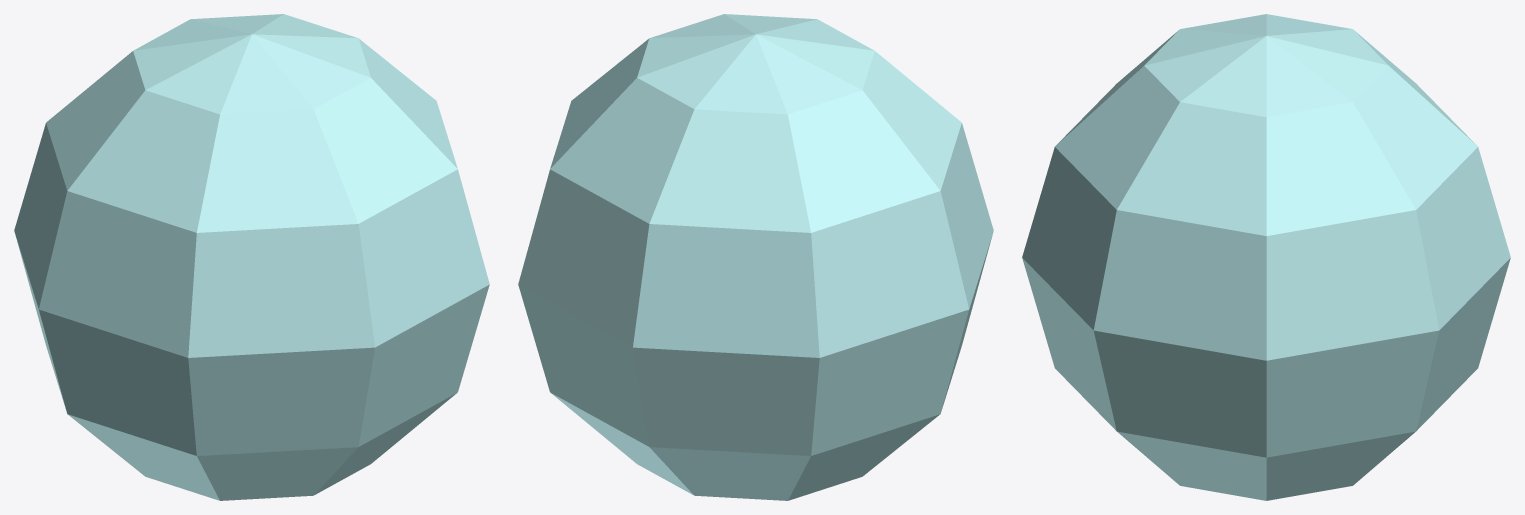
Rendered from genkidama.dae.
3 renders of one model, left to right at view 1: azimuth 30°, elevation 25°; view 2: azimuth 150°, elevation 25°; view 3: azimuth 270°, elevation 25°, orthographic.
Parts seen in each view (by area): view 1: genkiOB; view 2: genkiOB; view 3: genkiOB.
Part boxes in pixels (x1=…): genkiOB: x1=14, y1=14, x2=489, y2=500; genkiOB: x1=518, y1=14, x2=993, y2=500; genkiOB: x1=1022, y1=14, x2=1510, y2=500.
Bounding box in the file's own units: 17.51 × 17.51 × 17.51.
